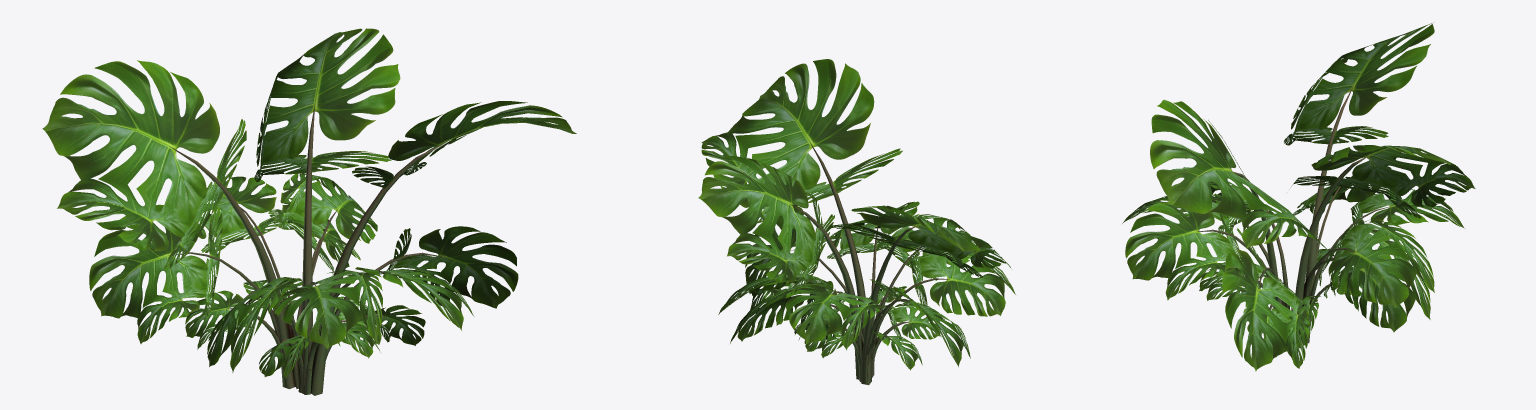
Rendered from monstera-c.glb.
3 renders of one model, left to right at view 1: azimuth 30°, elevation 25°; view 2: azimuth 150°, elevation 25°; view 3: azimuth 270°, elevation 25°, orthographic. The views are drawn at different scales.
Parts seen in each view (by area): view 1: monstera-c; view 2: monstera-c; view 3: monstera-c.
Part boxes in pixels (x1=…): monstera-c: x1=42, y1=28, x2=576, y2=395; monstera-c: x1=698, y1=59, x2=1015, y2=385; monstera-c: x1=1122, y1=22, x2=1475, y2=371.
Bounding box in the file's own units: 3.46 × 2.37 × 3.23.
2 materials, 2 textured.
